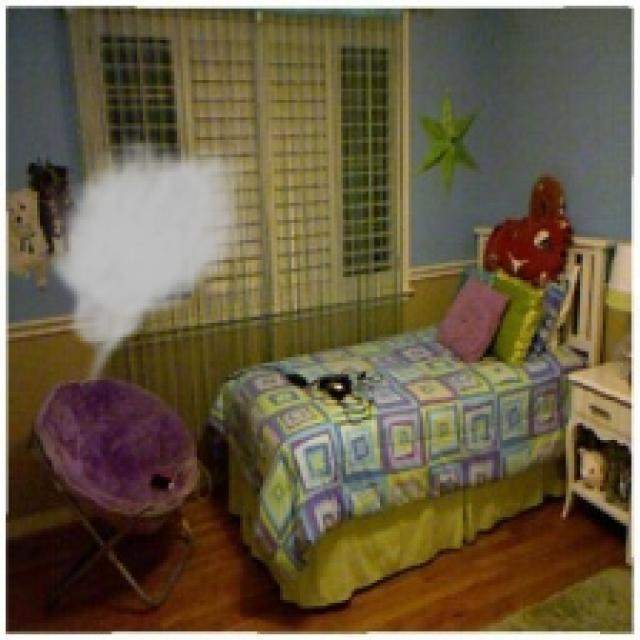Smoke: (42, 134, 258, 397)
